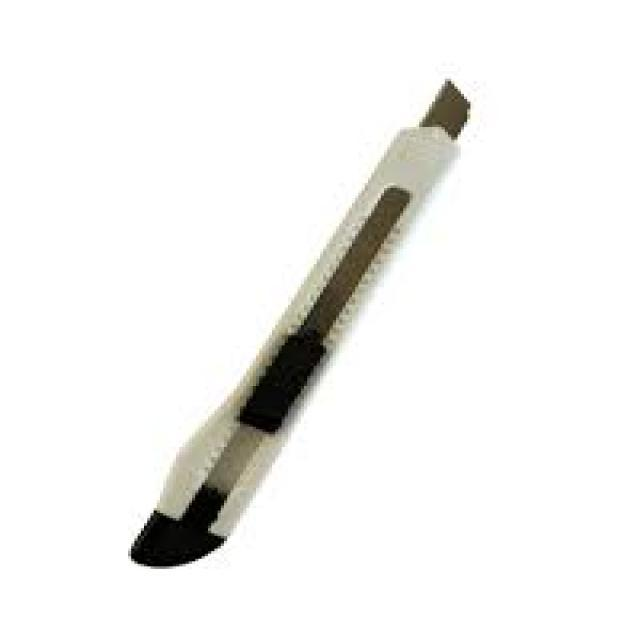cutter: (120, 74, 480, 578)
